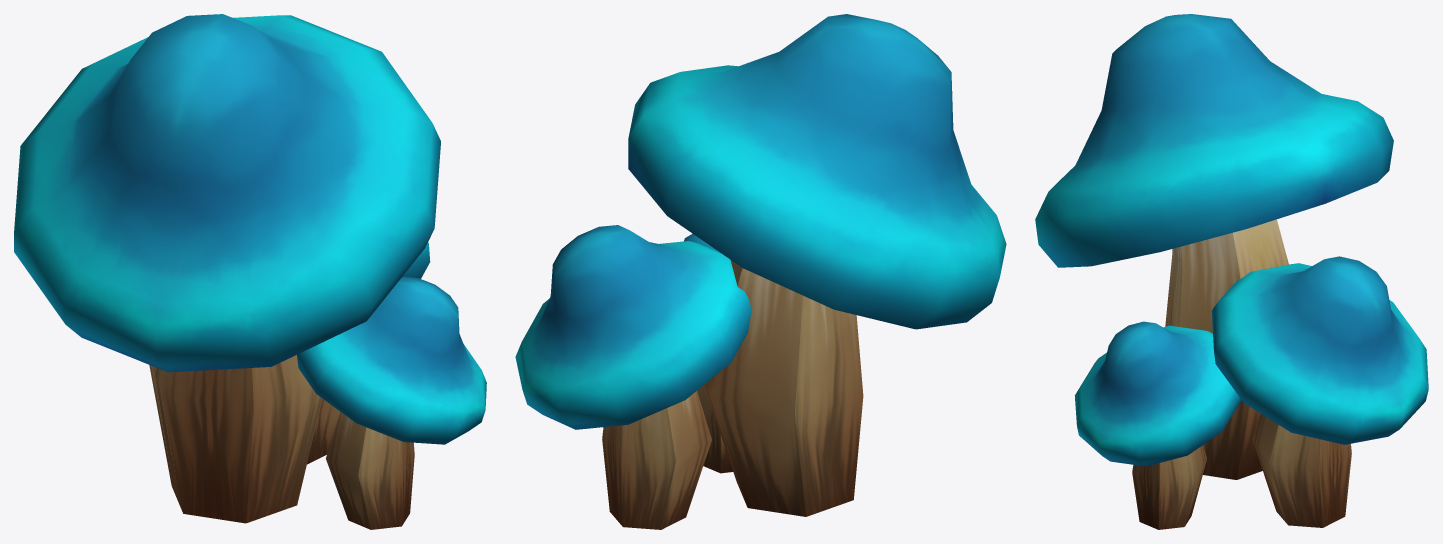
The model's file is mush.FBX.
3 views of the same model, side by side, from view 1: azimuth 30°, elevation 25°; view 2: azimuth 150°, elevation 25°; view 3: azimuth 270°, elevation 25° (orthographic). The views are drawn at different scales.
Visible parts, largest first — view 1: mush; view 2: mush; view 3: mush.
Part boxes in pixels (left/top/right/bottom): mush: left=14, top=14, right=486, bottom=529; mush: left=515, top=14, right=1006, bottom=529; mush: left=1035, top=14, right=1428, bottom=529.
Size of the model in its own units: 6.67 by 7.73 by 6.34.
